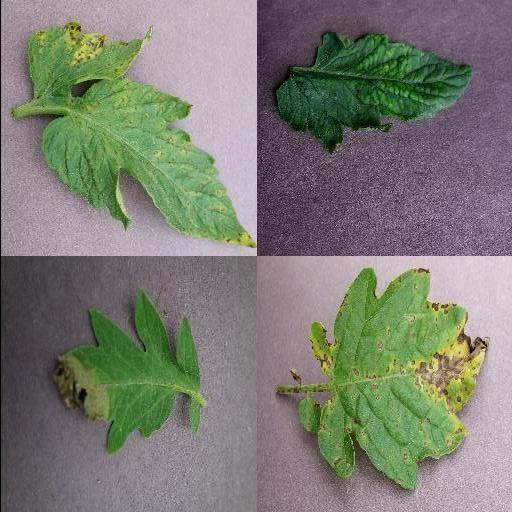Late Blight: (50, 291, 200, 453)
Mosaic Virus: (277, 32, 475, 152)
Septoria: (30, 24, 256, 248), (309, 269, 487, 493)
